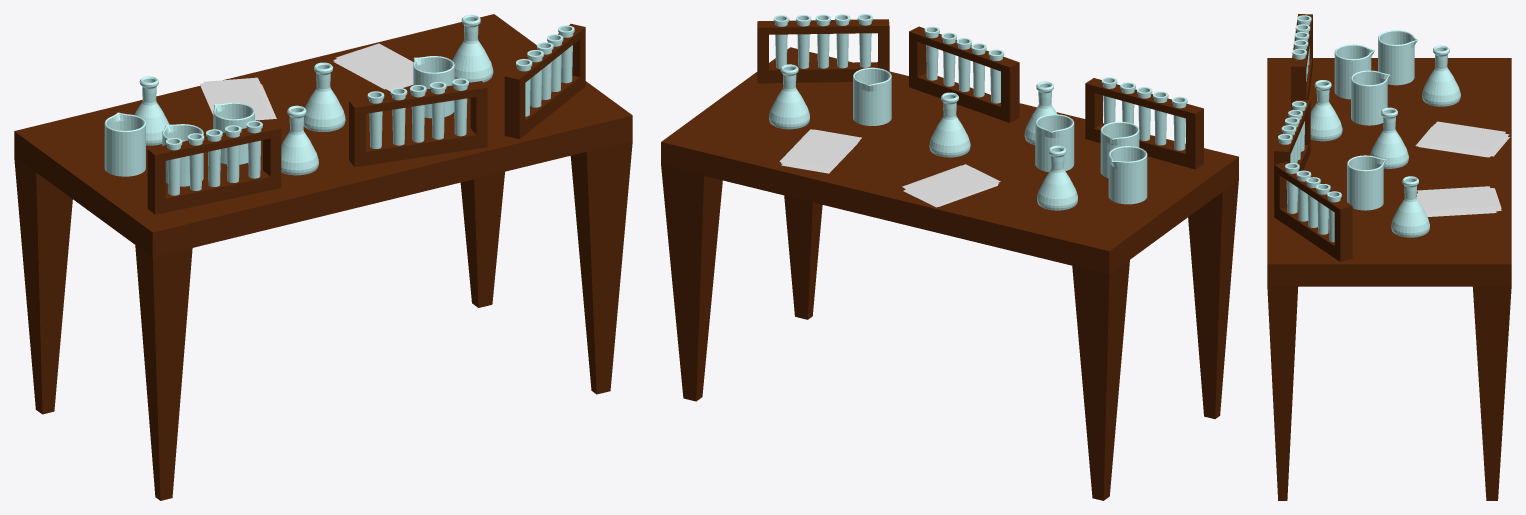
Rendered from LabTable.gltf.
The picture shows the model from 3 angles, left to right: view 1: azimuth 30°, elevation 25°; view 2: azimuth 150°, elevation 25°; view 3: azimuth 270°, elevation 25°; orthographic projection. The views are drawn at different scales.
Parts seen in each view (by area): view 1: Cube; view 2: Cube; view 3: Cube.
Part boxes in pixels (box(x1,y1,x2,y2)): Cube: box(14, 14, 632, 500); Cube: box(661, 14, 1238, 500); Cube: box(1267, 14, 1511, 500).
Bounding box in the file's own units: 4 × 2.72 × 2.
